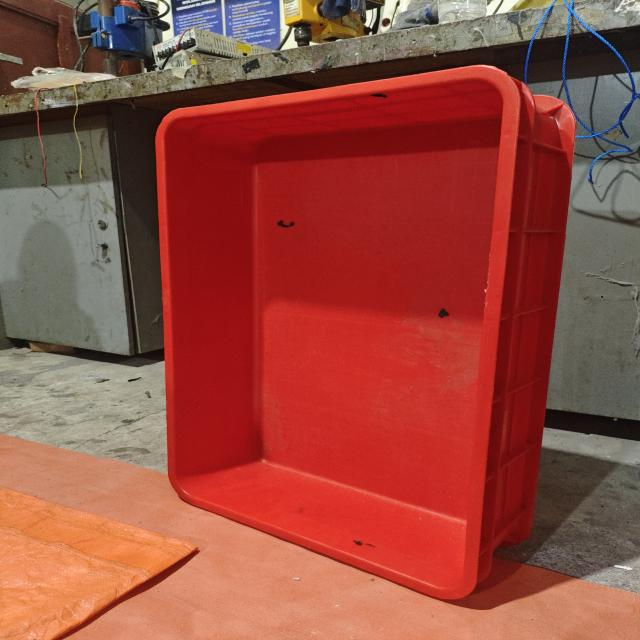red plastic box: (155, 65, 576, 600)
